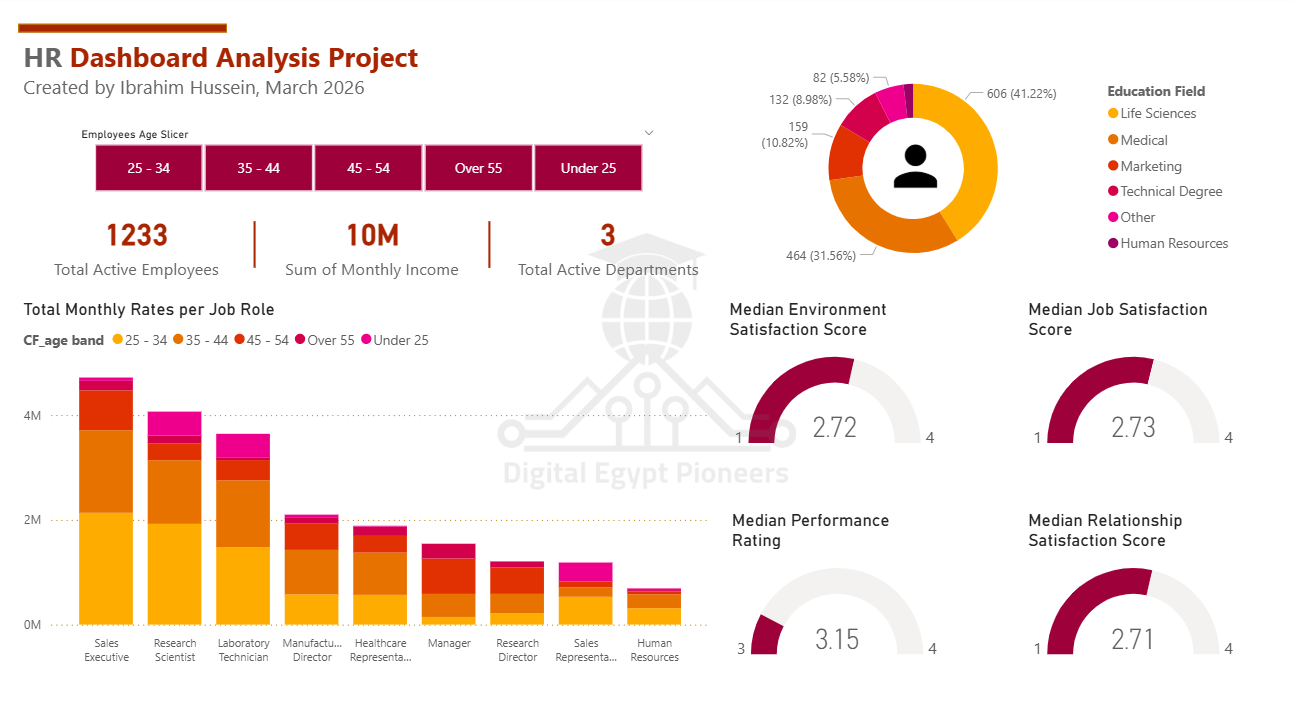

The page's visual inventory and layout, read from the dashboard file:
{"tool":"powerbi","page":{"name":"Page 5","canvas":[1280,720],"ordinal":1},"visuals":[{"type":"textbox","box":[25.6,36.7,408.9,80],"z":0},{"type":"card","fields":{"Values":["HR.Measure"]},"box":[25.7,202.9,231.6,81.2],"z":0,"group":"g1"},{"type":"shape","box":[25.7,28.6,204.3,8.6],"z":1000},{"type":"card","fields":{"Values":["Sum(HR.Monthly Income)"]},"box":[257.3,202.9,230.4,81.2],"z":1000,"group":"g1"},{"type":"card","fields":{"Values":["Count(HR.Department)"]},"box":[487.8,202.9,230.4,81.2],"z":2000,"group":"g1"},{"type":"lineStackedColumnComboChart","title":"Total Monthly Rates per Job Role","fields":{"Category":["HR.Job Role"],"Y":["Sum(HR.Monthly Rate)"],"Series":["HR.CF_age band"]},"box":[25.7,297.1,681.4,365.7],"z":2000},{"type":"group","id":"g1","title":"Group 2","box":[25.7,202.9,692.9,81.4],"z":3000},{"type":"gauge","title":"Median Environment Satisfaction Score","fields":{"Y":["Avg(HR.Environment Satisfaction)"],"MinValue":["Min(HR.Environment Satisfaction)1"],"MaxValue":["Max(HR.Environment Satisfaction)2"]},"box":[717.1,297.1,215.7,158.6],"z":4000},{"type":"gauge","title":"Median Performance Rating","fields":{"Y":["Avg(HR.Performance Rating)"],"MinValue":["Min(HR.Performance Rating)1"],"MaxValue":["Max(HR.Performance Rating)2"]},"box":[718.6,504.3,215.7,158.6],"z":5000},{"type":"gauge","title":"Median Job Satisfaction Score","fields":{"Y":["Avg(HR.Job Satisfaction)"],"MinValue":["Min(HR.Job Satisfaction)"],"MaxValue":["Max(HR.Job Satisfaction)1"]},"box":[1008.6,297.1,215.7,158.6],"z":6000},{"type":"gauge","title":"Median Relationship Satisfaction Score","fields":{"Y":["Avg(HR.Relationship Satisfaction)"],"MinValue":["Min(HR.Relationship Satisfaction)1"],"MaxValue":["Max(HR.Relationship Satisfaction)2"]},"box":[1008.6,504.3,215.7,158.6],"z":7000},{"type":"donutChart","title":"Employees'' Distribution per Field of Education","fields":{"Category":["HR.Education Field"],"Y":["CountNonNull(HR.Education Field)"]},"box":[707.1,37.1,517.1,247.1],"z":8000},{"type":"slicer","fields":{"Values":["HR.CF_age band"]},"box":[74.3,124.3,585.7,74.3],"z":9000},{"type":"image","box":[493.6,217.1,292.9,285.7],"z":10000},{"type":"image","box":[871.4,117.1,62.9,100],"z":11000},{"type":"shape","box":[163.1,220.8,188.5,45.4],"z":12000},{"type":"shape","box":[393.1,221.2,188.1,45.6],"z":13000}]}

Visuals, with their boxes in screenshot pixels (x1, y1, x2, y2), scaled from the page's 1280x720 canvas onto the 1295x724 screenshot:
textbox: (left=26, top=37, right=440, bottom=117)
card - HR.Measure: (left=26, top=204, right=260, bottom=286)
shape: (left=26, top=29, right=233, bottom=37)
card - Sum(HR.Monthly Income): (left=260, top=204, right=493, bottom=286)
card - Count(HR.Department): (left=494, top=204, right=727, bottom=286)
"Total Monthly Rates per Job Role" lineStackedColumnComboChart: (left=26, top=299, right=715, bottom=666)
"Group 2" group: (left=26, top=204, right=727, bottom=286)
"Median Environment Satisfaction Score" gauge: (left=726, top=299, right=944, bottom=458)
"Median Performance Rating" gauge: (left=727, top=507, right=945, bottom=667)
"Median Job Satisfaction Score" gauge: (left=1020, top=299, right=1239, bottom=458)
"Median Relationship Satisfaction Score" gauge: (left=1020, top=507, right=1239, bottom=667)
"Employees'' Distribution per Field of Education" donutChart: (left=715, top=37, right=1239, bottom=286)
slicer - HR.CF_age band: (left=75, top=125, right=668, bottom=200)
image: (left=499, top=218, right=796, bottom=506)
image: (left=882, top=118, right=945, bottom=218)
shape: (left=165, top=222, right=356, bottom=268)
shape: (left=398, top=222, right=588, bottom=268)
